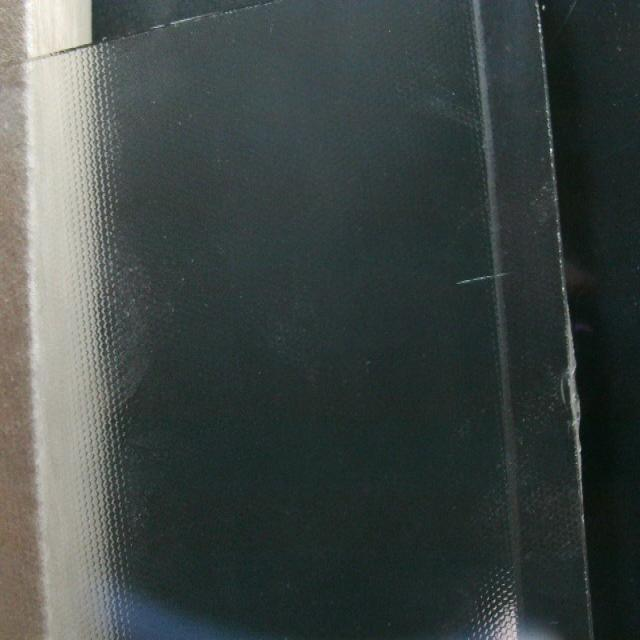edge_chip: (554, 335, 590, 487)
scratch: (448, 260, 518, 292)
